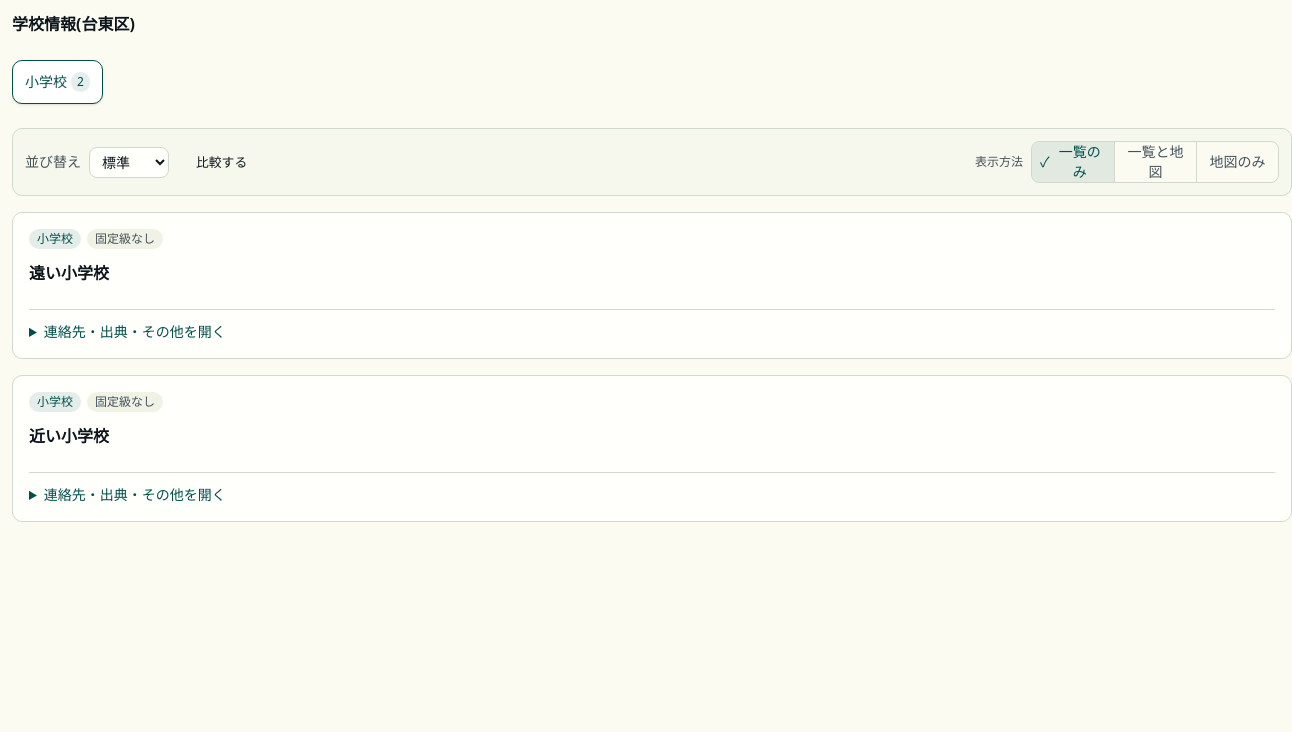
Test: SchoolInfoSection: 近い順の並び替え › 「近い順」を選ぶと同じサブタブ内(小学校)で台東区中心からの距離が近い順になる
Expected: the headings read "遠い小学校", "近い小学校", in this order, 29,262 -> 109,284; 29,425 -> 109,447
Select "近い順" in the dropdown labelled "並び替え" at point(129, 162), box 89,146 -> 169,178
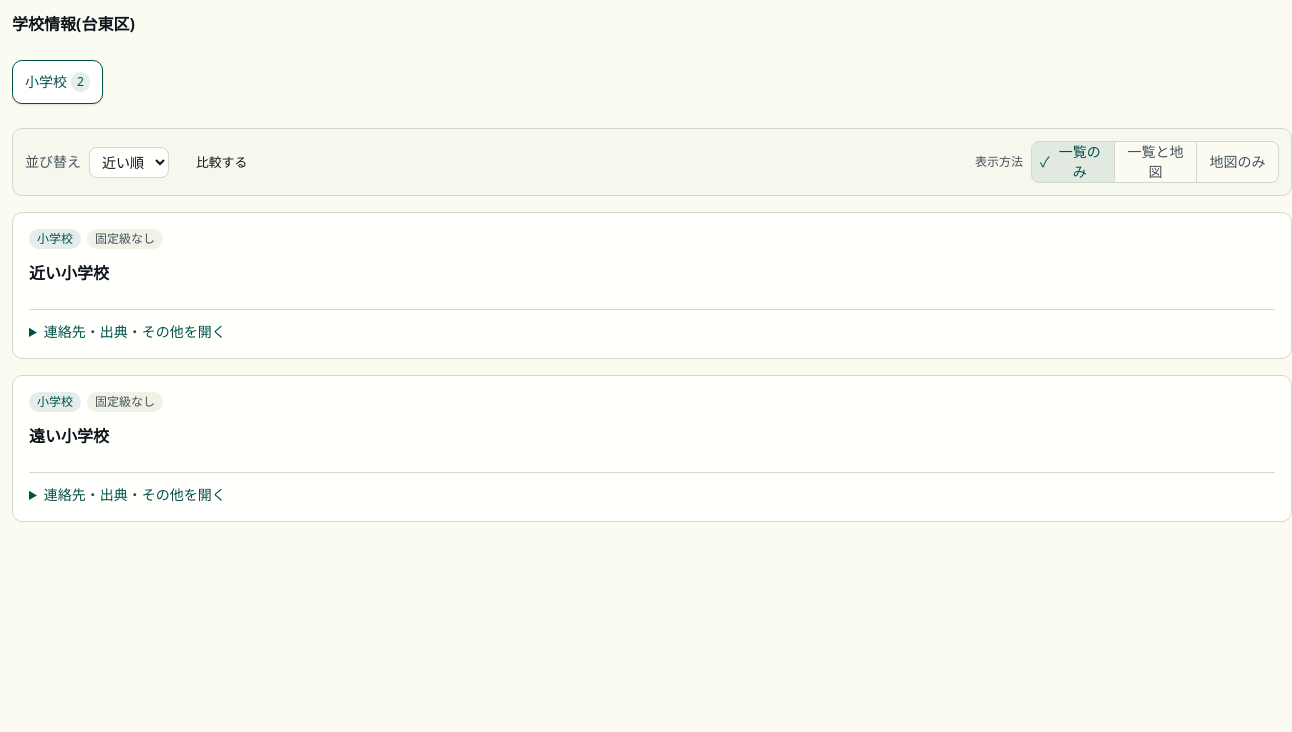
Now the headings read "近い小学校", "遠い小学校", in this order, box 29,262 -> 109,284; 29,425 -> 109,447
